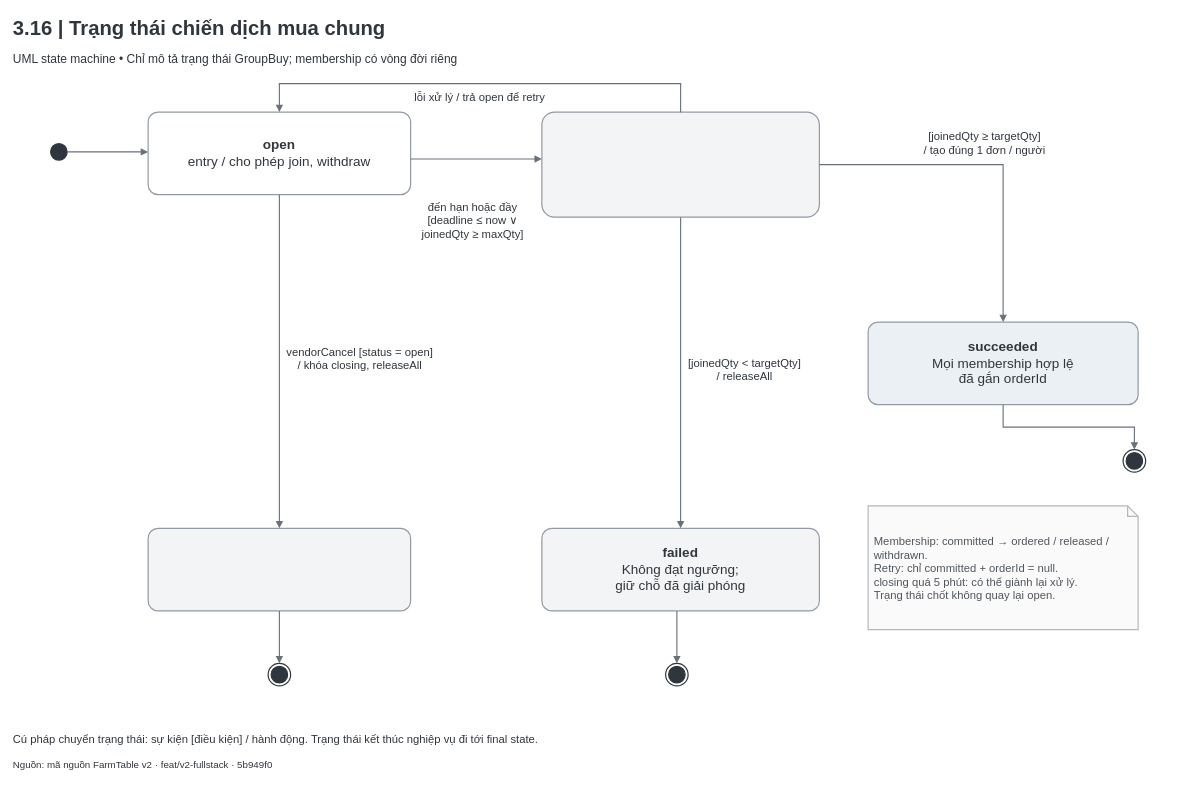
Image size: 1181x786. Some labels were removed from this diagram. Here are the shapes that lost their labels. From the top down, the box of each, then its label:
(541, 111, 820, 217): closing do / giành quyền xử lý và chốt membership
(147, 527, 411, 611): cancelled Nhà bán hủy; giữ chỗ đã giải phóng
